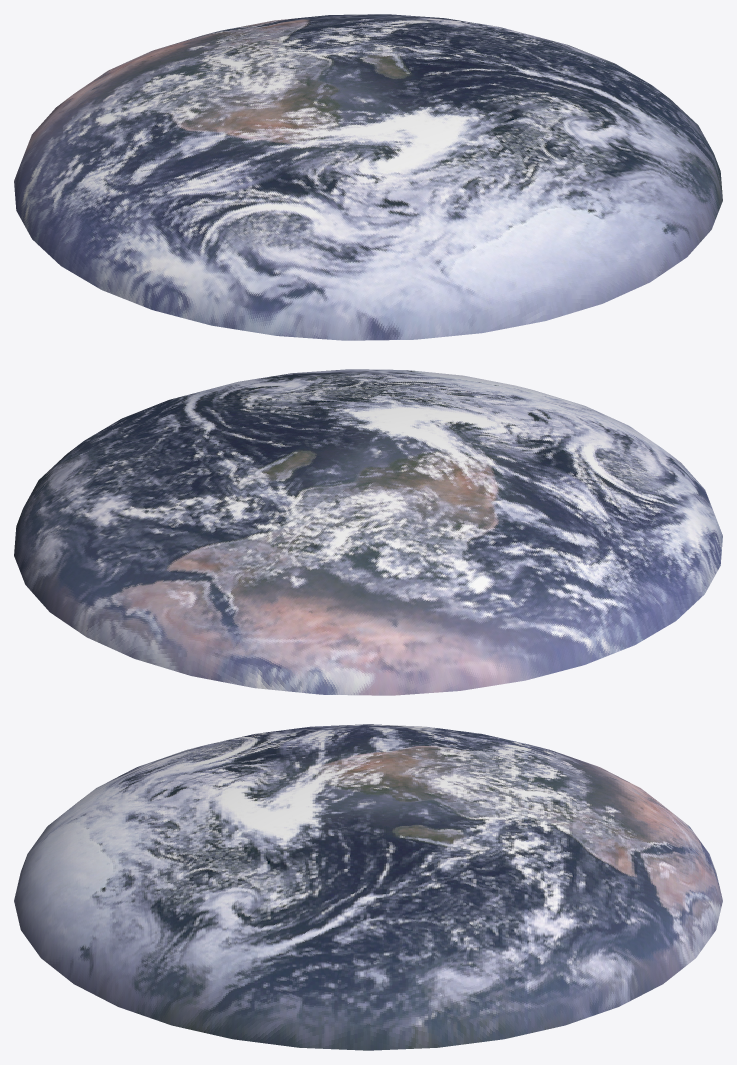
File: earth.glb
The picture shows the model from 3 angles, top to bottom: view 1: azimuth 30°, elevation 25°; view 2: azimuth 150°, elevation 25°; view 3: azimuth 270°, elevation 25°; orthographic projection.
Visible parts, largest first — view 1: Sphere; view 2: Sphere; view 3: Sphere.
Part boxes in pixels (x1,y1,x2,y2): Sphere: (14, 14, 722, 340); Sphere: (14, 369, 722, 695); Sphere: (14, 724, 722, 1050).
Bounding box in the file's own units: 19.64 × 2.86 × 19.64.
1 material, 1 textured.
